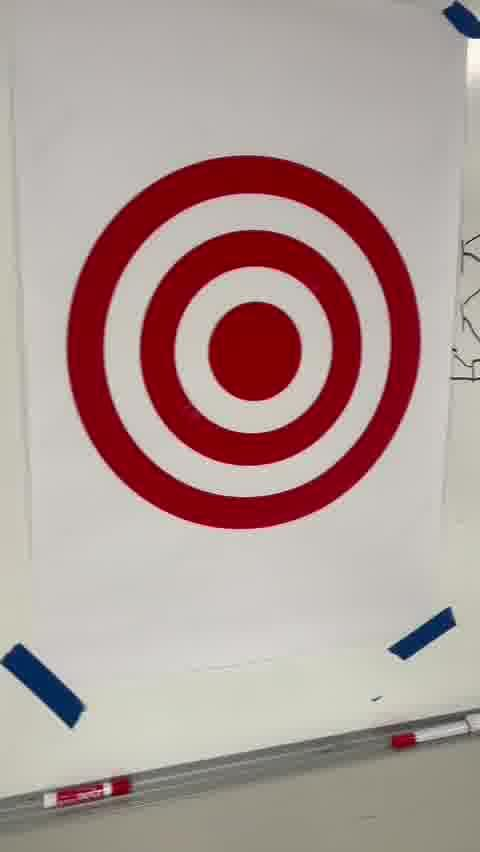target_red: (64, 151, 425, 533)
